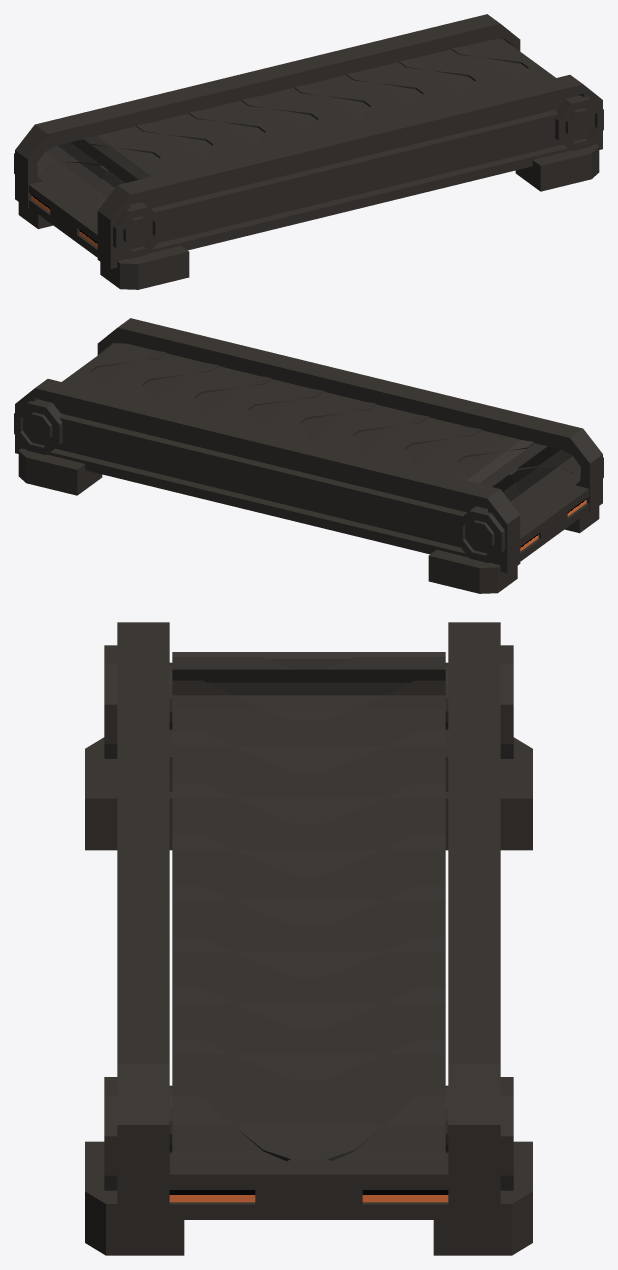
File: Conveyor.fbx
3 renders of one model, top to bottom at view 1: azimuth 30°, elevation 25°; view 2: azimuth 150°, elevation 25°; view 3: azimuth 270°, elevation 25°, orthographic. The views are drawn at different scales.
Visible parts, largest first — view 1: Base, Belt_baked; view 2: Base, Belt_baked; view 3: Belt_baked, Base, Light.
Boxes of the visible parts, x1,y1,x2,y2 form: Base: (14, 14, 603, 289); Belt_baked: (36, 38, 555, 220); Base: (14, 318, 603, 593); Belt_baked: (62, 342, 581, 524); Belt_baked: (172, 652, 445, 1161); Base: (85, 622, 532, 1255); Light: (169, 1190, 448, 1202).
Bounding box in the file's own units: 1 × 0.1732 × 0.3942.
